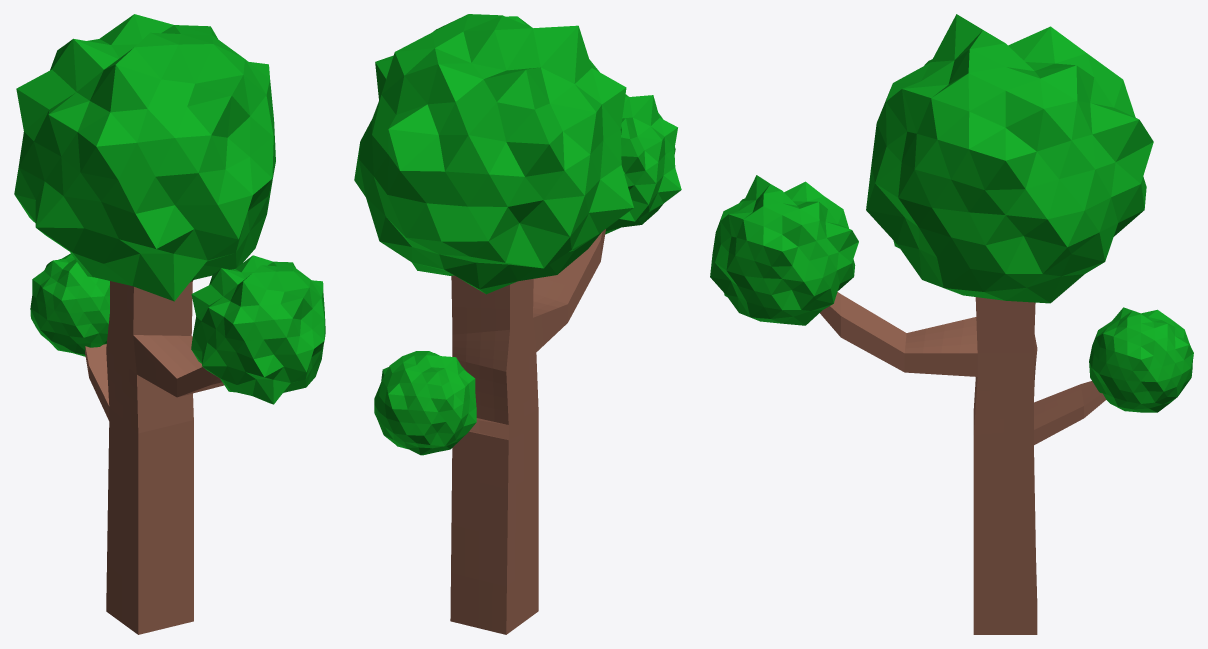
The model's file is TWEEEEE.gltf.
3 renders of one model, left to right at view 1: azimuth 30°, elevation 25°; view 2: azimuth 150°, elevation 25°; view 3: azimuth 270°, elevation 25°, orthographic.
Visible parts, largest first — view 1: Icosphere, Cube, Icosphere.001, Icosphere.002; view 2: Icosphere, Cube, Icosphere.002, Icosphere.001; view 3: Icosphere, Cube, Icosphere.001, Icosphere.002.
Boxes of the visible parts, <box> form: Icosphere: <box>14,14,275,301</box>; Cube: <box>85,281,224,634</box>; Icosphere.001: <box>191,255,325,404</box>; Icosphere.002: <box>30,253,109,356</box>; Icosphere: <box>354,14,633,294</box>; Cube: <box>450,229,605,634</box>; Icosphere.002: <box>374,351,476,455</box>; Icosphere.001: <box>605,94,681,234</box>; Icosphere: <box>866,14,1153,303</box>; Cube: <box>820,292,1106,634</box>; Icosphere.001: <box>710,175,858,325</box>; Icosphere.002: <box>1089,307,1193,412</box>.
Size of the model in its own units: 8.83 by 20.08 by 15.21.
